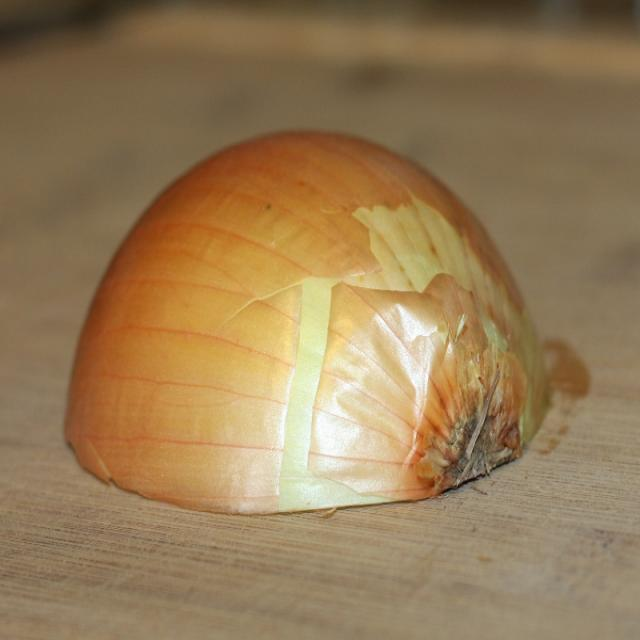half onion: (65, 125, 542, 524)
